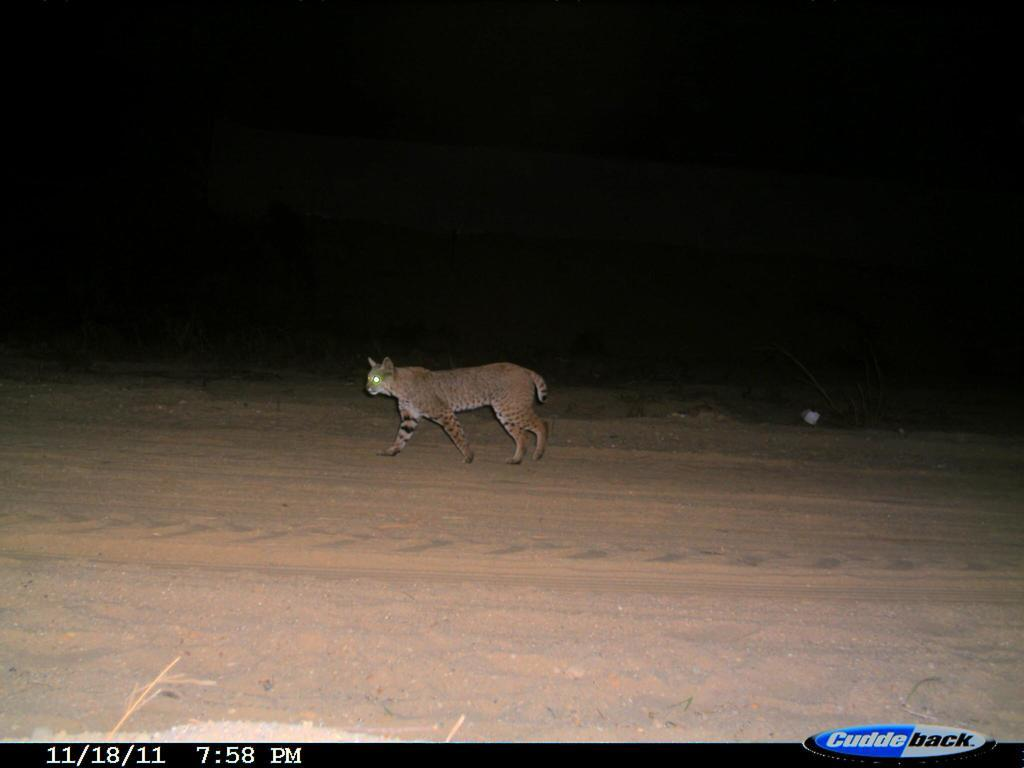bobcat: (355, 349, 562, 475)
